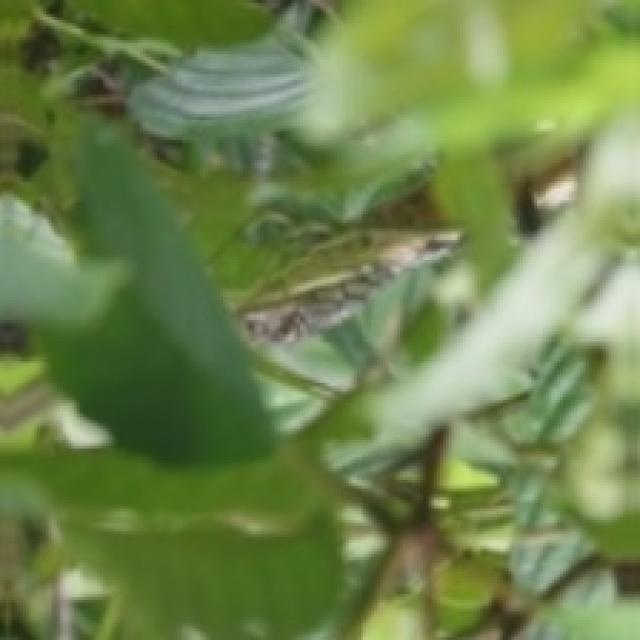king cobra: (234, 229, 457, 340)
